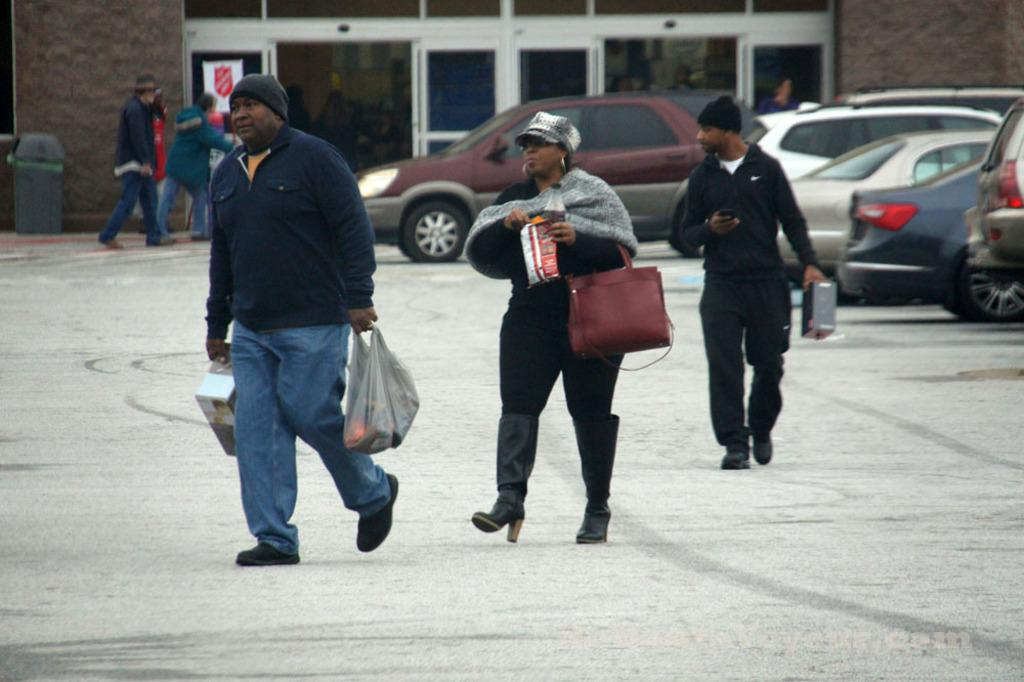Luggage-and-bags: (563, 233, 675, 369), (195, 343, 234, 457), (802, 276, 836, 339)
